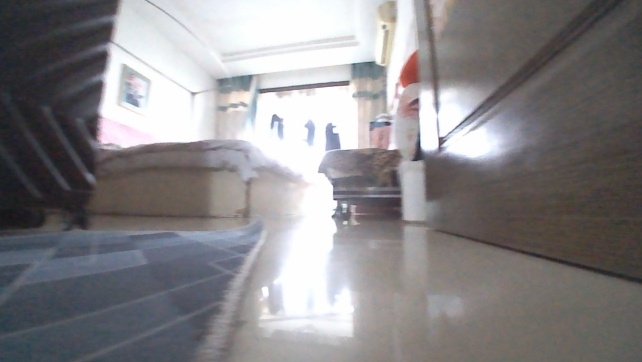bed: (90, 110, 309, 224)
blanket: (0, 211, 274, 361)
